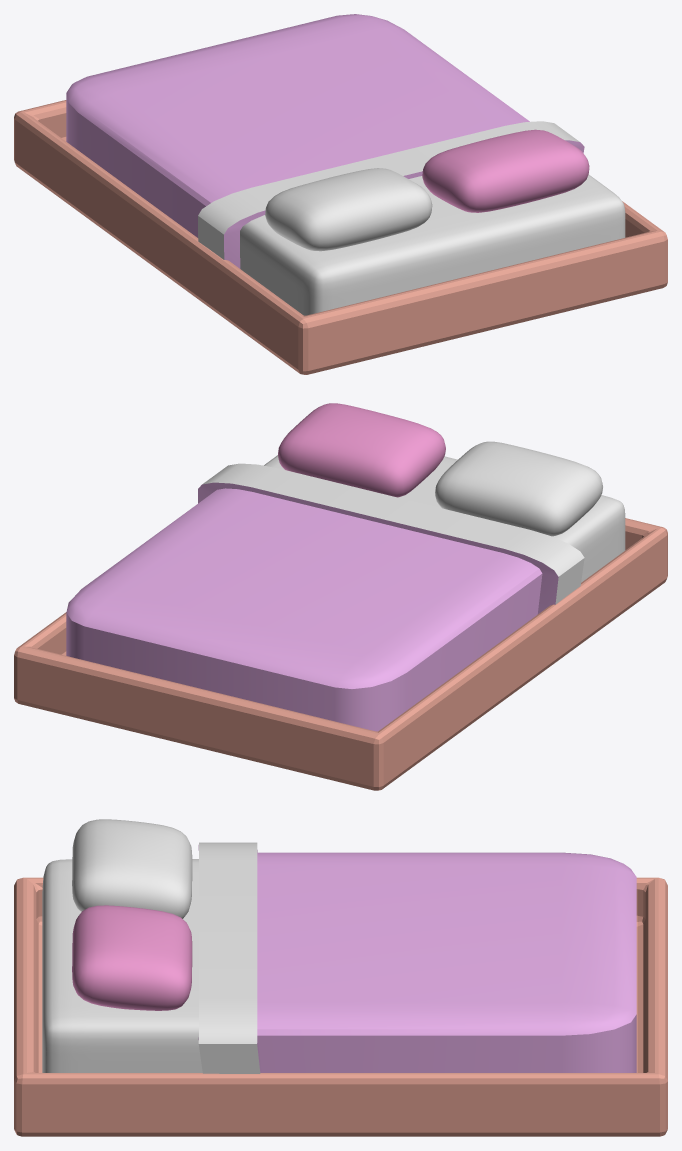
File: bed.fbx
3 views of the same model, one above another, from view 1: azimuth 30°, elevation 25°; view 2: azimuth 150°, elevation 25°; view 3: azimuth 270°, elevation 25° (orthographic). The views are drawn at different scales.
Visible parts, largest first — view 1: Cube.052, Cube.053, Cube.051, Cube.049, Cube.050; view 2: Cube.052, Cube.053, Cube.050, Cube.049, Cube.051; view 3: Cube.052, Cube.053, Cube.051, Cube.049, Cube.050.
Part boxes in pixels (x1,y1,x2,y2): Cube.052: (66,14,584,268); Cube.053: (14,100,667,374); Cube.051: (240,174,625,315); Cube.049: (422,129,589,212); Cube.050: (265,168,432,251); Cube.052: (66,463,584,731); Cube.053: (14,518,667,790); Cube.050: (435,441,602,536); Cube.049: (278,403,445,497); Cube.051: (264,455,625,582); Cube.052: (198,842,636,1073); Cube.053: (14,877,667,1136); Cube.051: (42,859,202,1072); Cube.049: (72,905,192,1010); Cube.050: (72,819,192,918).
Bounding box in the file's own units: 240 × 83.08 × 328.
